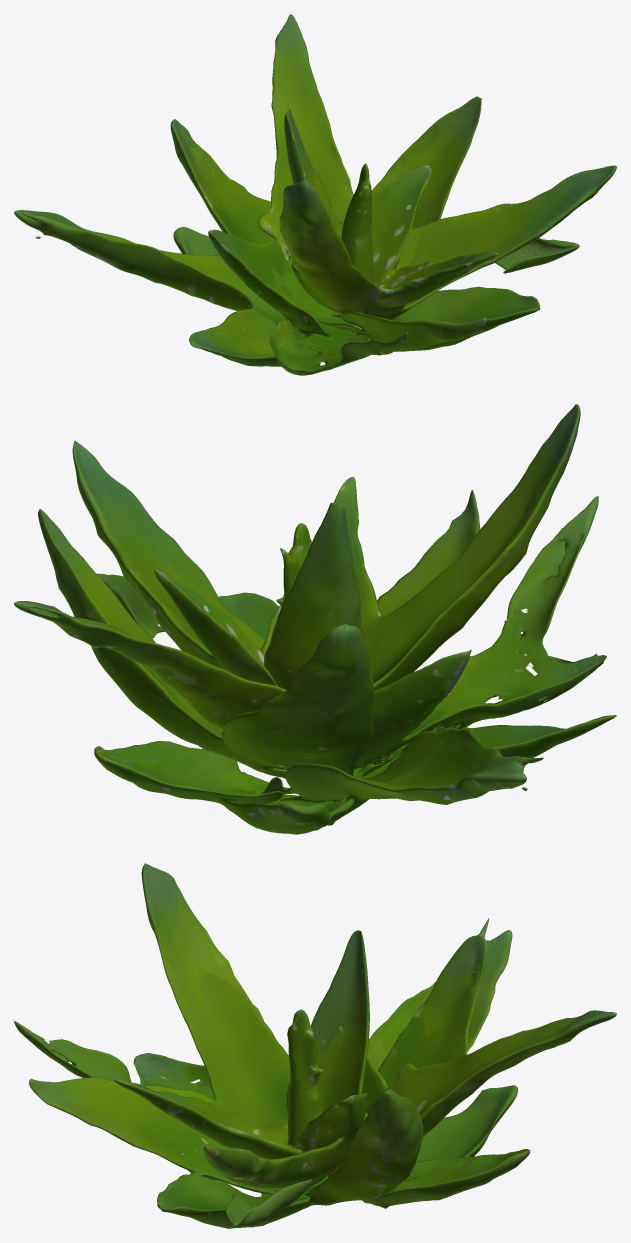
File: aloevera.glb
3 renders of one model, top to bottom at view 1: azimuth 30°, elevation 25°; view 2: azimuth 150°, elevation 25°; view 3: azimuth 270°, elevation 25°, orthographic. The views are drawn at different scales.
Visible parts, largest first — view 1: tripo_node_7b4df178; view 2: tripo_node_7b4df178; view 3: tripo_node_7b4df178.
Part boxes in pixels (bbox=[...]): tripo_node_7b4df178: bbox=[14, 14, 616, 375]; tripo_node_7b4df178: bbox=[14, 404, 616, 834]; tripo_node_7b4df178: bbox=[14, 863, 616, 1228].
Bounding box in the file's own units: 98.83 × 50.51 × 98.87.
Materials: 1 (1 with a texture image).
